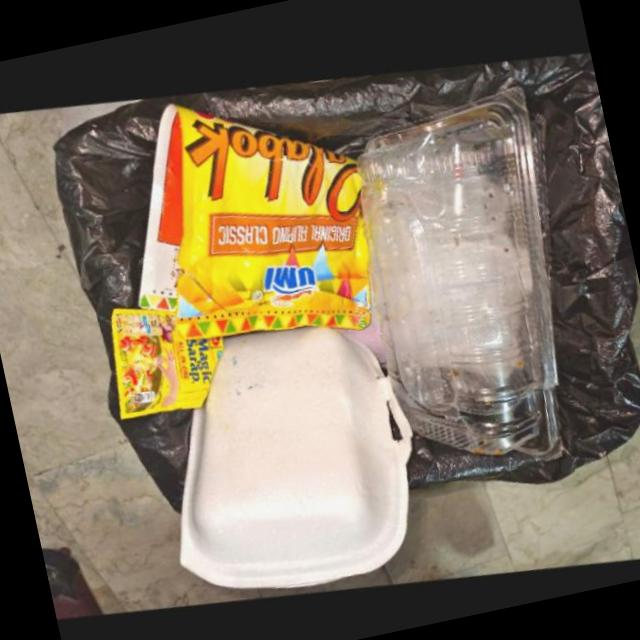bao_bi_thuc_pham: (135, 98, 367, 339)
goi_nhua_nho: (108, 306, 221, 417)
hop_nhua: (352, 74, 563, 447)
xop: (176, 320, 411, 585)
